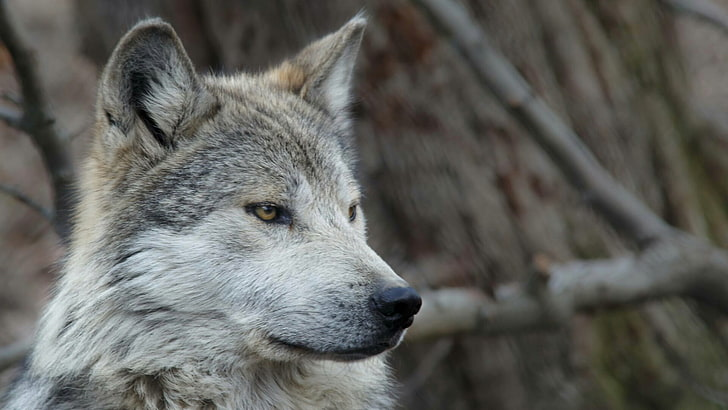Lobo: (62, 10, 429, 371)
